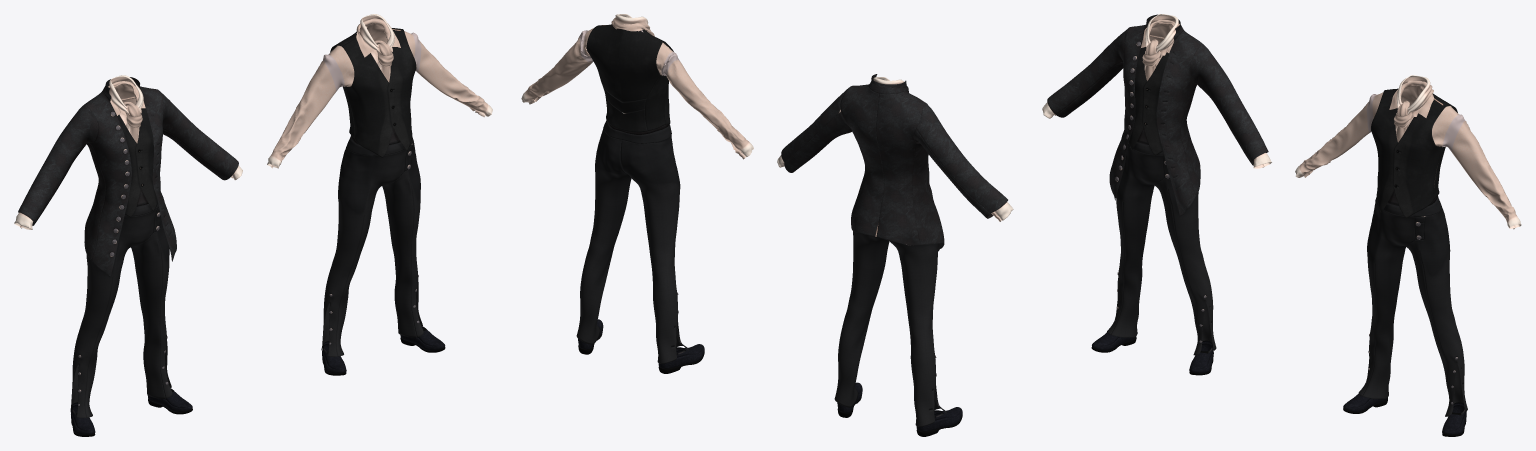
File: candidate.glb
3 renders of one model, left to right at view 1: azimuth 30°, elevation 25°; view 2: azimuth 150°, elevation 25°; view 3: azimuth 330°, elevation 25°, orthographic. The views are drawn at different scales.
Parts seen in each view (by area): view 1: SuitPatternMakingDetailed.002, VestPatternMakingDetailed.002; view 2: SuitPatternMakingDetailed.002, VestPatternMakingDetailed.002; view 3: SuitPatternMakingDetailed.002, VestPatternMakingDetailed.002.
Part boxes in pixels (box(x1,y1,x2,y2)): SuitPatternMakingDetailed.002: box(14, 75, 242, 436); VestPatternMakingDetailed.002: box(267, 14, 492, 375); SuitPatternMakingDetailed.002: box(777, 74, 1013, 436); VestPatternMakingDetailed.002: box(521, 14, 753, 373); SuitPatternMakingDetailed.002: box(1042, 14, 1271, 375); VestPatternMakingDetailed.002: box(1295, 75, 1521, 436).
Size of the model in its own units: 237 by 160 by 30.65.
7 materials, 6 textured.
